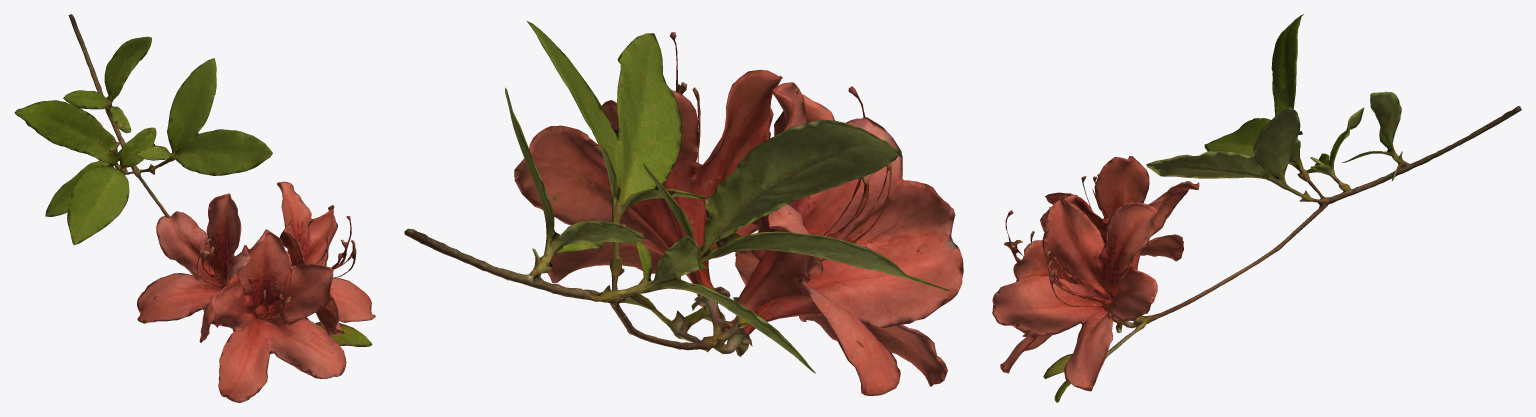
The model's file is mountain_azalea_ascii_ready.glb.
3 views of the same model, side by side, from view 1: azimuth 30°, elevation 25°; view 2: azimuth 150°, elevation 25°; view 3: azimuth 270°, elevation 25° (orthographic). The views are drawn at different scales.
Parts seen in each view (by area): view 1: VanitasSpecimenMain; view 2: VanitasSpecimenMain; view 3: VanitasSpecimenMain.
Part boxes in pixels (x1,y1,x2,y2): VanitasSpecimenMain: [14, 14, 375, 402]; VanitasSpecimenMain: [404, 21, 963, 395]; VanitasSpecimenMain: [992, 14, 1521, 402].
Size of the model in its own units: 3.35 by 2.89 by 5.
Materials: 1 (1 with a texture image).
